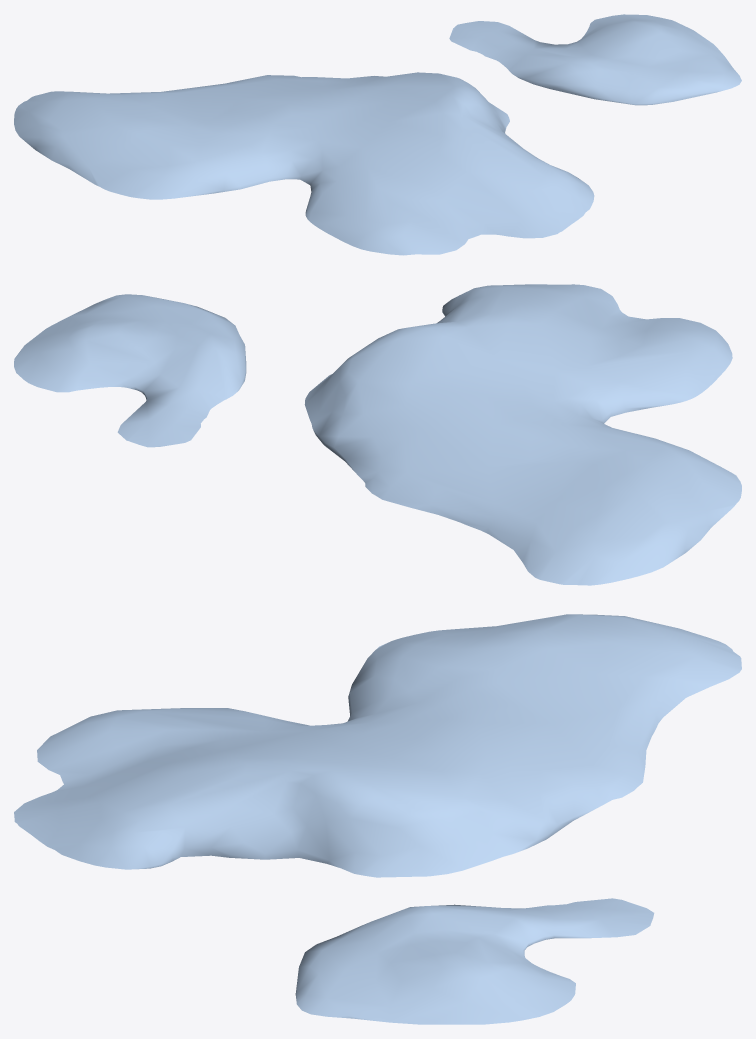
The model's file is IcePatchSmall_04.fbx.
3 renders of one model, top to bottom at view 1: azimuth 30°, elevation 25°; view 2: azimuth 150°, elevation 25°; view 3: azimuth 270°, elevation 25°, orthographic. The views are drawn at different scales.
Parts seen in each view (by area): view 1: IcePatchSmall_04.001; view 2: IcePatchSmall_04.001; view 3: IcePatchSmall_04.001.
Boxes of the visible parts, x1=… form: IcePatchSmall_04.001: x1=14, y1=14, x2=741, y2=255; IcePatchSmall_04.001: x1=14, y1=284, x2=741, y2=585; IcePatchSmall_04.001: x1=14, y1=614, x2=741, y2=1024.
Size of the model in its own units: 2.02 by 0.1459 by 1.55.
